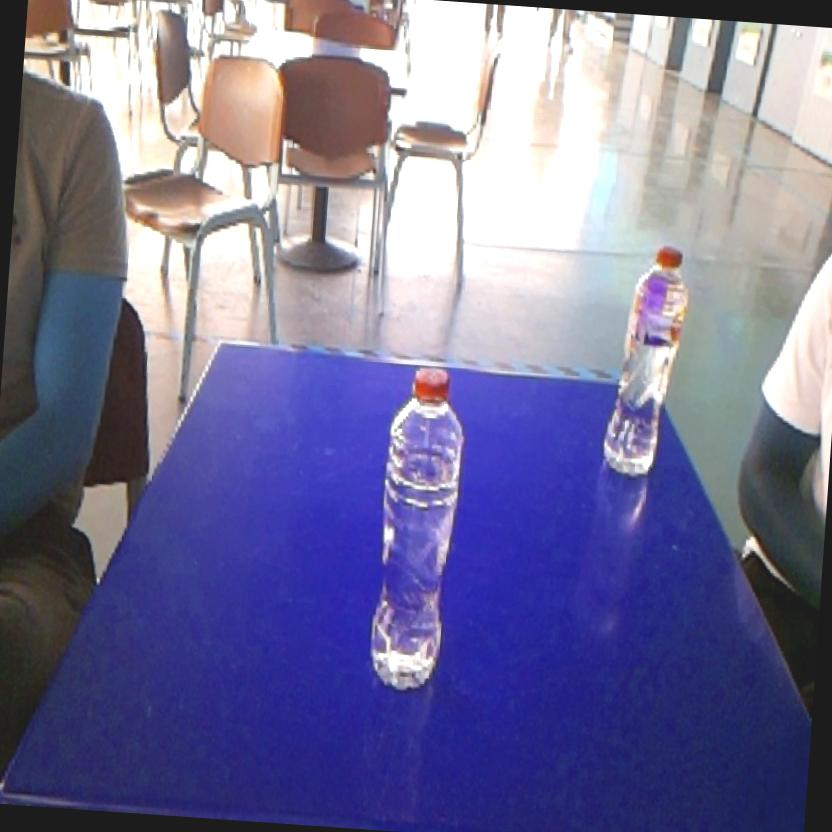good: (594, 234, 698, 490)
no_label: (359, 358, 477, 706)
